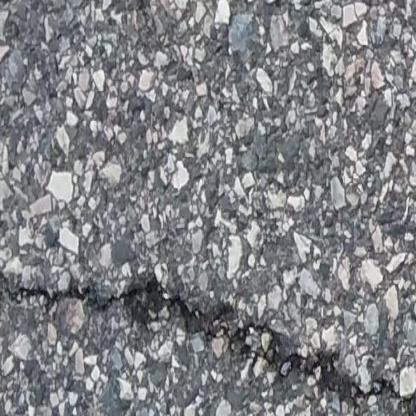Cracks: (0, 267, 416, 416)
